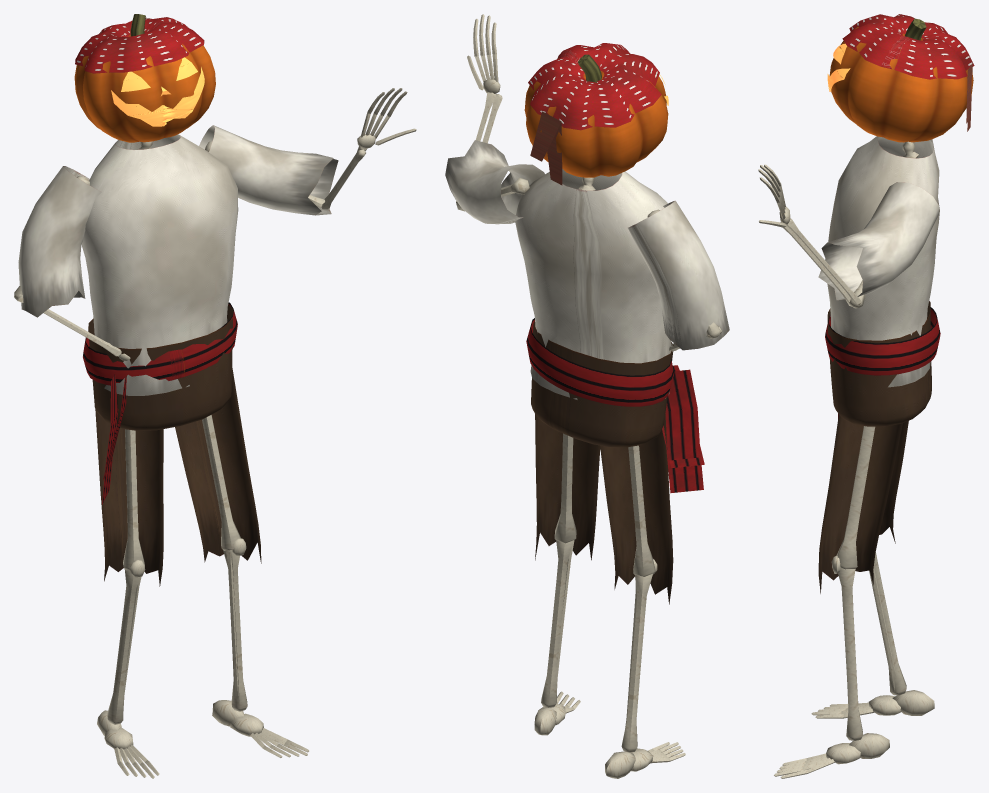
File: skeleton-pirate-stand.glb
3 views of the same model, side by side, from view 1: azimuth 30°, elevation 25°; view 2: azimuth 150°, elevation 25°; view 3: azimuth 270°, elevation 25° (orthographic).
Parts seen in each view (by area): view 1: skeleton, head; view 2: skeleton, head; view 3: skeleton, head.
Boxes of the visible parts, left/top/right/bottom form: skeleton: left=14, top=88, right=416, bottom=778; head: left=74, top=14, right=215, bottom=142; skeleton: left=445, top=14, right=729, bottom=778; head: left=524, top=43, right=668, bottom=185; skeleton: left=758, top=136, right=940, bottom=778; head: left=827, top=14, right=974, bottom=142.
Size of the model in its own units: 0.8619 by 1.81 by 0.4958.
Materials: 4 (3 with a texture image).
